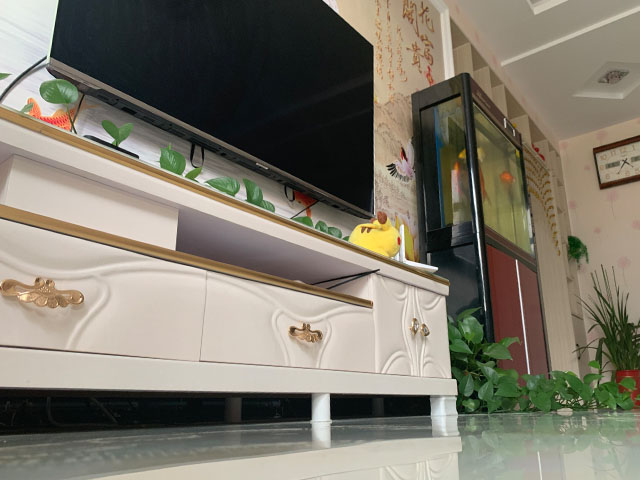cabinet: (425, 222, 557, 405)
table: (1, 102, 461, 424)
